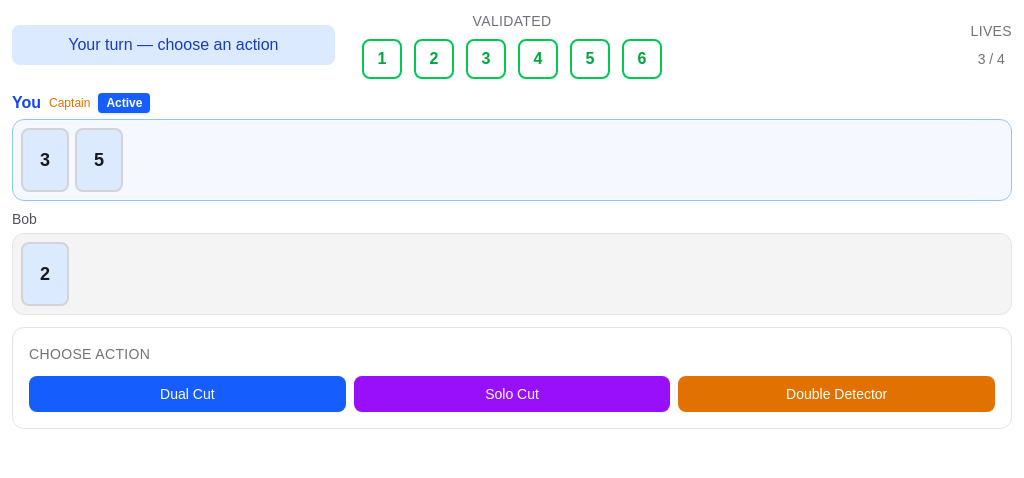
Test: GameBoard › solo_cut: selecting 2 mismatched wires shows error and disables confirm
The image size is (1024, 478).
Click the button "Solo Cut". click: (512,394)
box: [354,376,670,412]
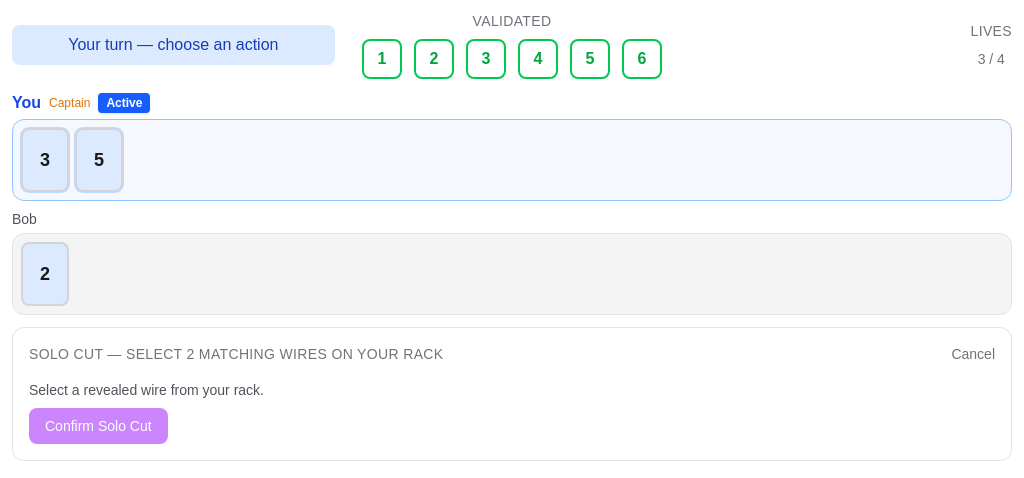
Click the button "3". click: (45,160)
box: [21,128,69,192]
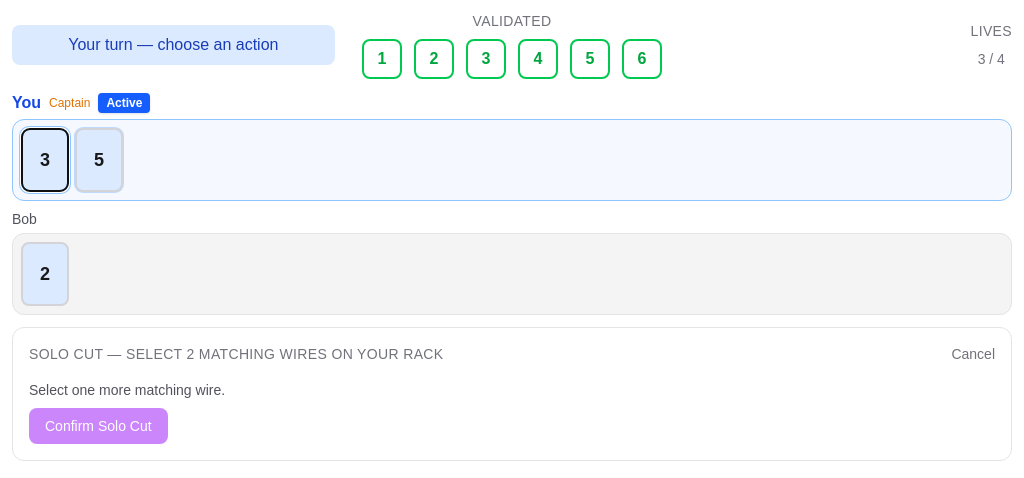
Click the button "5". click: (99,160)
box: [75,128,123,192]
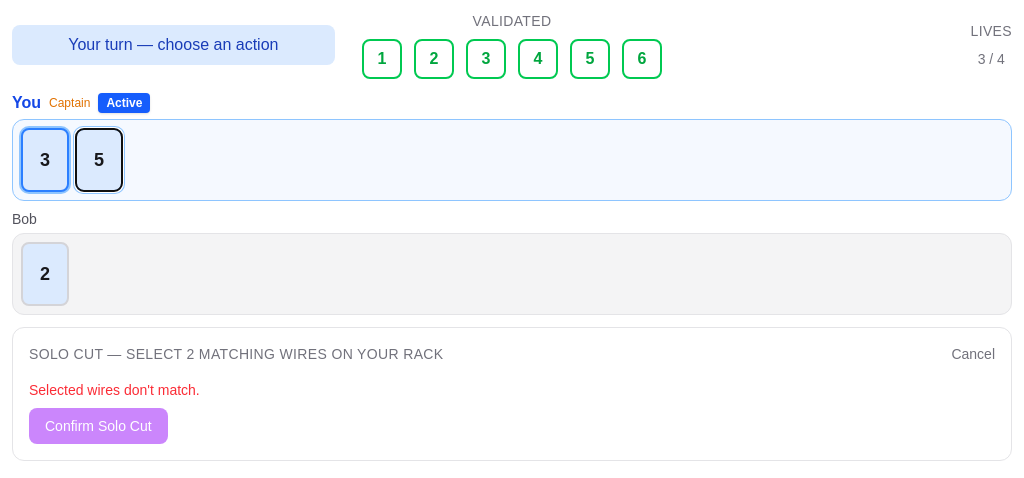
Expected: the button "Confirm Solo Cut" is disabled, [29,408,168,444]
Expected: the text "Selected wires don't match." is shown, [29,382,200,398]
